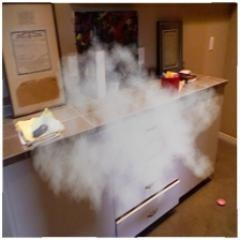smoke: (51, 46, 206, 187)
